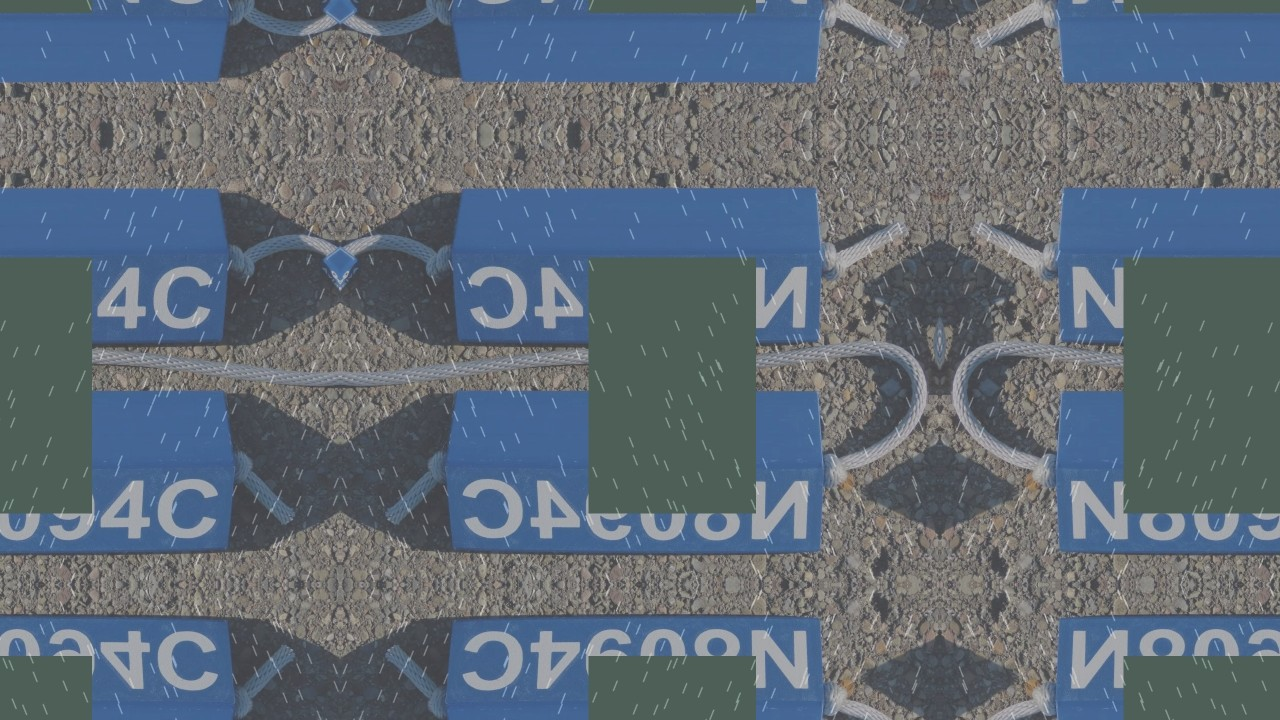chock: (446, 385, 826, 554), (454, 182, 824, 345), (0, 385, 234, 554), (446, 616, 826, 720), (1054, 385, 1280, 554), (0, 182, 226, 345), (1056, 182, 1280, 345), (454, 0, 824, 88), (0, 616, 234, 720), (1054, 616, 1280, 720), (0, 0, 226, 88), (1056, 0, 1280, 88)
